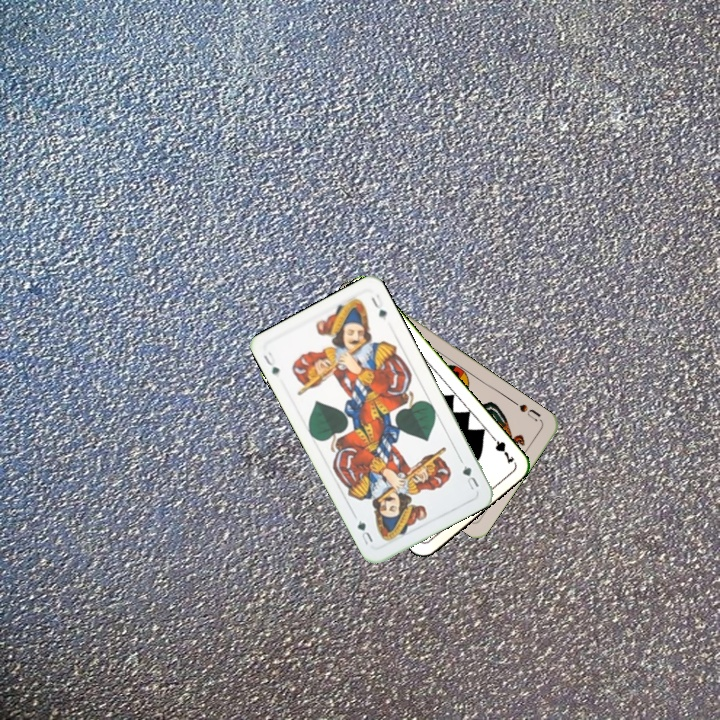G7: (486, 431, 517, 467)
GU: (458, 461, 482, 493), (259, 348, 282, 378)
SU: (509, 397, 543, 424)
